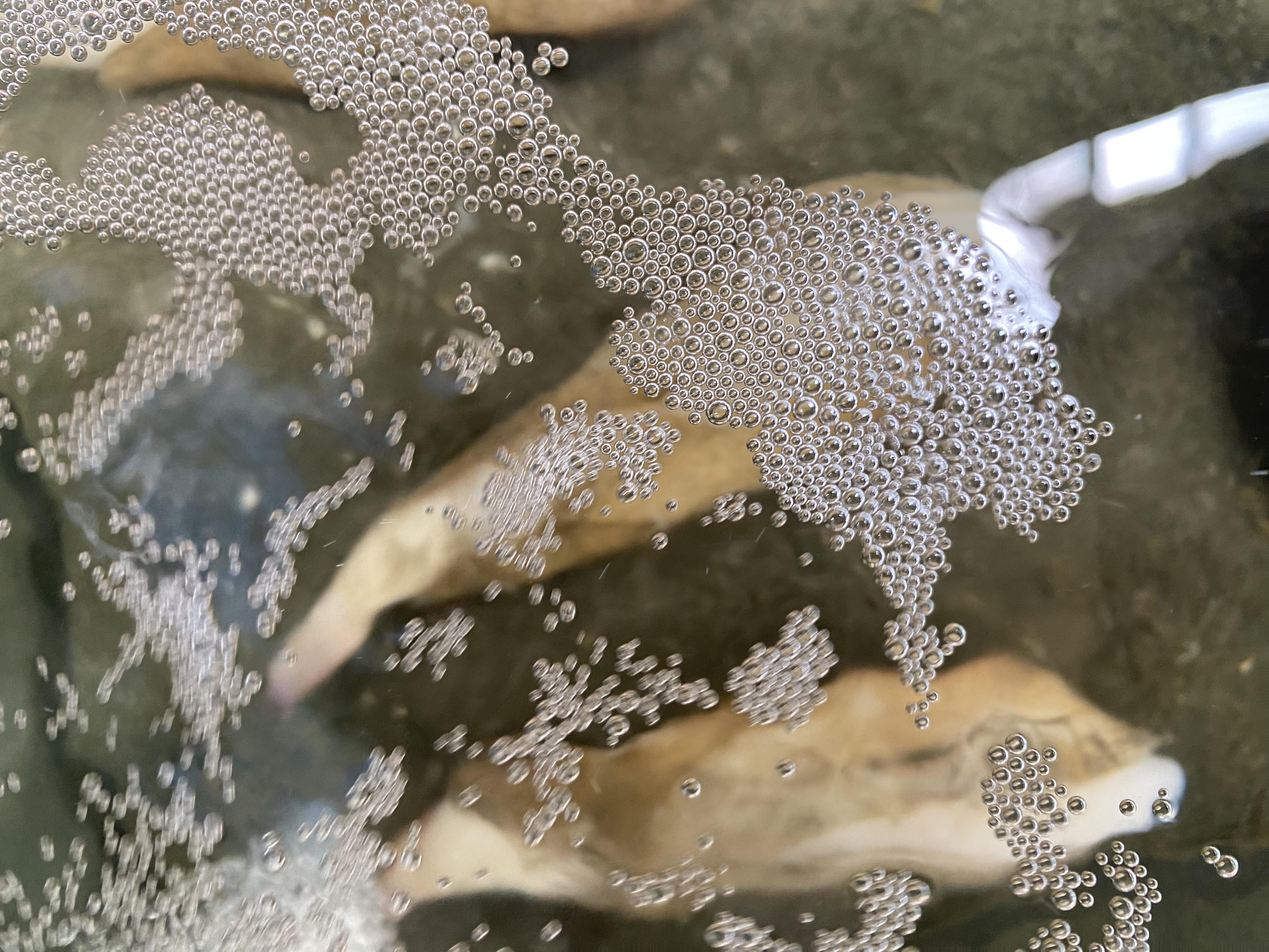Healthy: (386, 656, 1183, 908), (265, 350, 660, 706), (547, 408, 759, 568), (301, 597, 361, 663)
